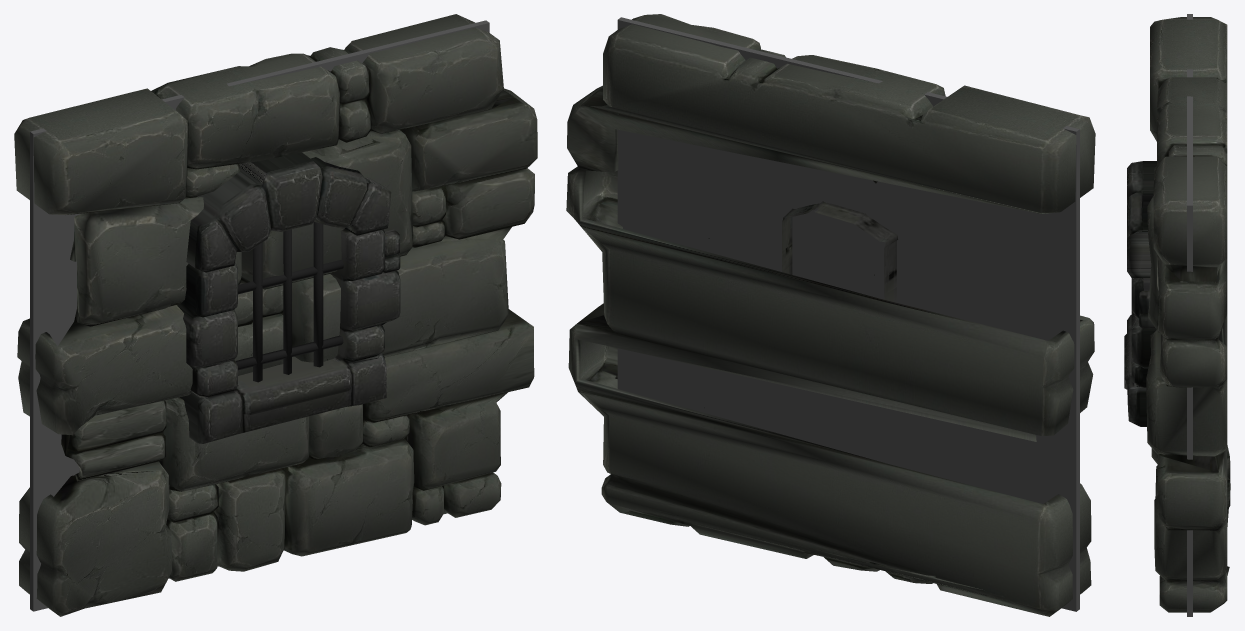
The model's file is StoneWallWindow.fbx.
3 views of the same model, side by side, from view 1: azimuth 30°, elevation 25°; view 2: azimuth 150°, elevation 25°; view 3: azimuth 270°, elevation 25° (orthographic). The views are drawn at different scales.
Parts seen in each view (by area): view 1: WallWindow; view 2: WallWindow; view 3: WallWindow.
Boxes of the visible parts, bbox=[...] form: WallWindow: bbox=[14, 14, 537, 616]; WallWindow: bbox=[566, 14, 1095, 616]; WallWindow: bbox=[1124, 14, 1230, 616].
Size of the model in its own units: 323 by 301 by 70.17.
